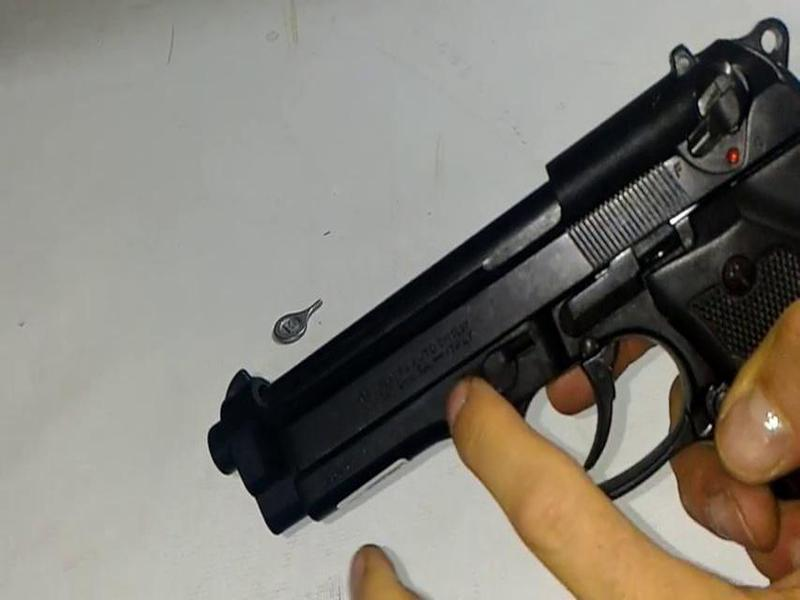Pistola: (104, 14, 800, 506)
